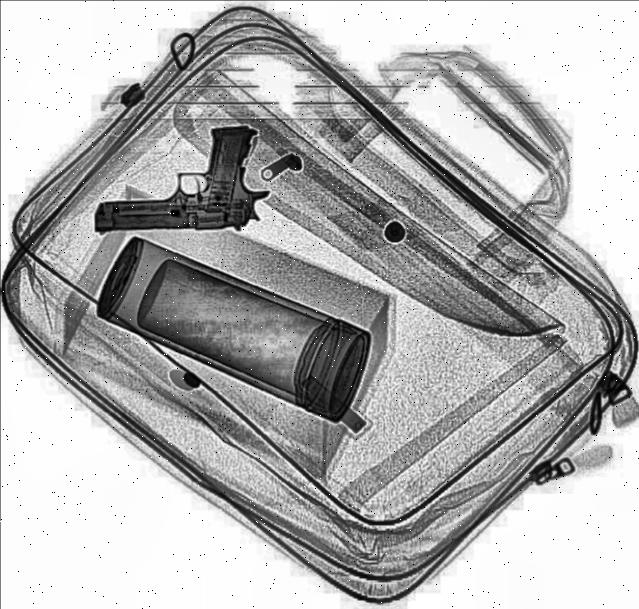Gun: (92, 126, 272, 234)
